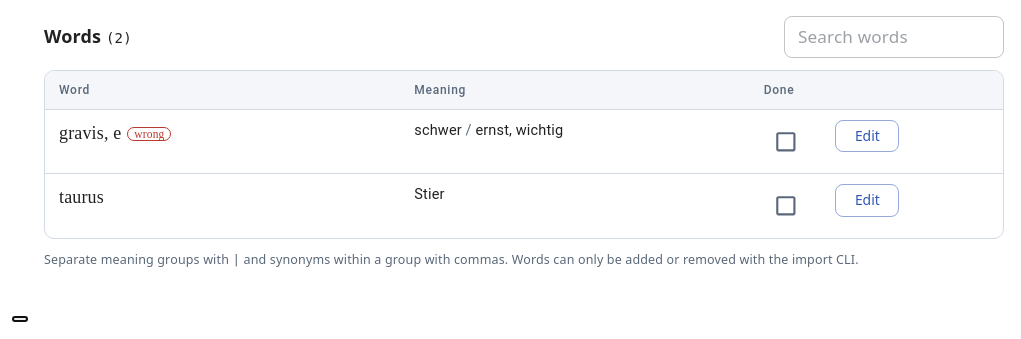
Test case: editing › saves the word and the meaning groups, then shows the saved row
Click the button with aria-label "Edit gravis, e" at (867, 136), box [835,120,899,152]
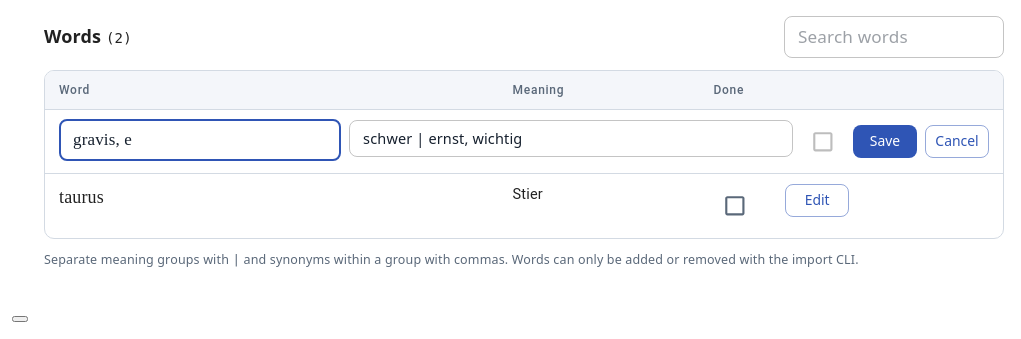
Replace the text in the field named "Meaning" with "schwer, gewichtig | ernst" at (571, 138), box [349,120,793,157]
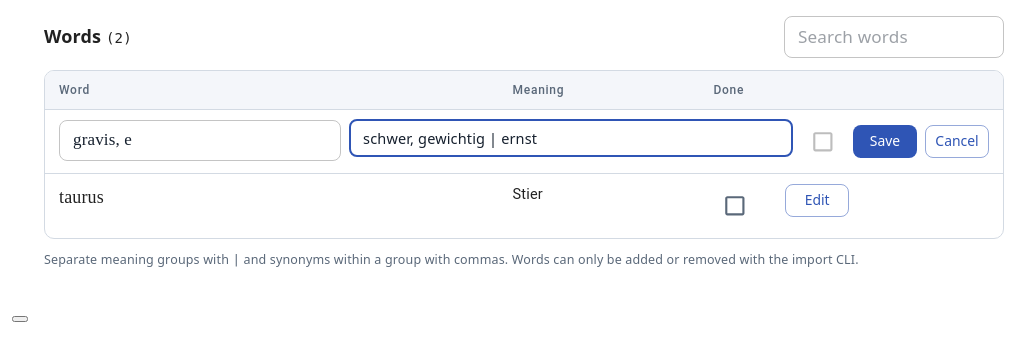
Click the button "Save" at (885, 142), box [853,125,917,158]
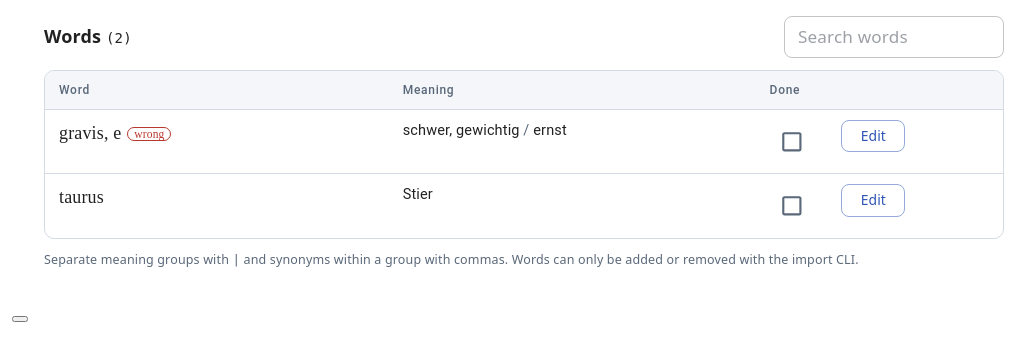
Check: the text "gravis, e" shows "schwer, gewichtig / ernst", box [45,109,1003,174]
